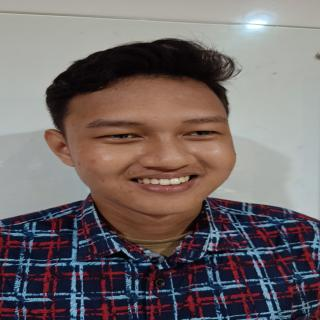Senang: (67, 63, 256, 223)
